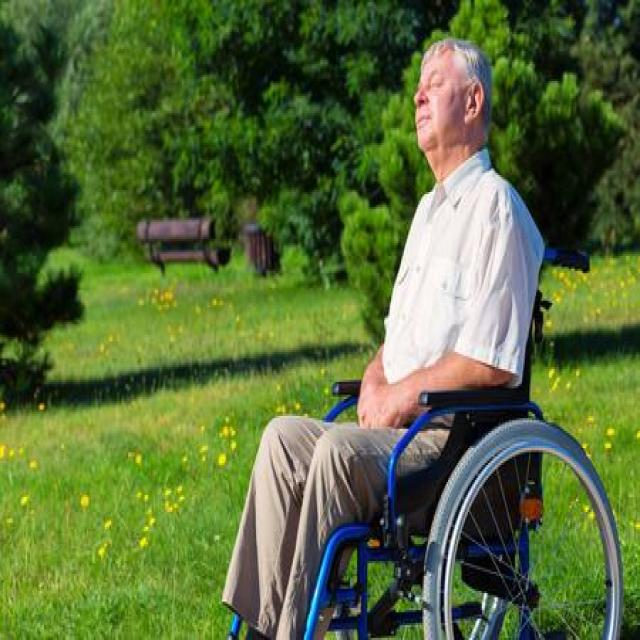wheelchairs: (212, 213, 623, 640)
